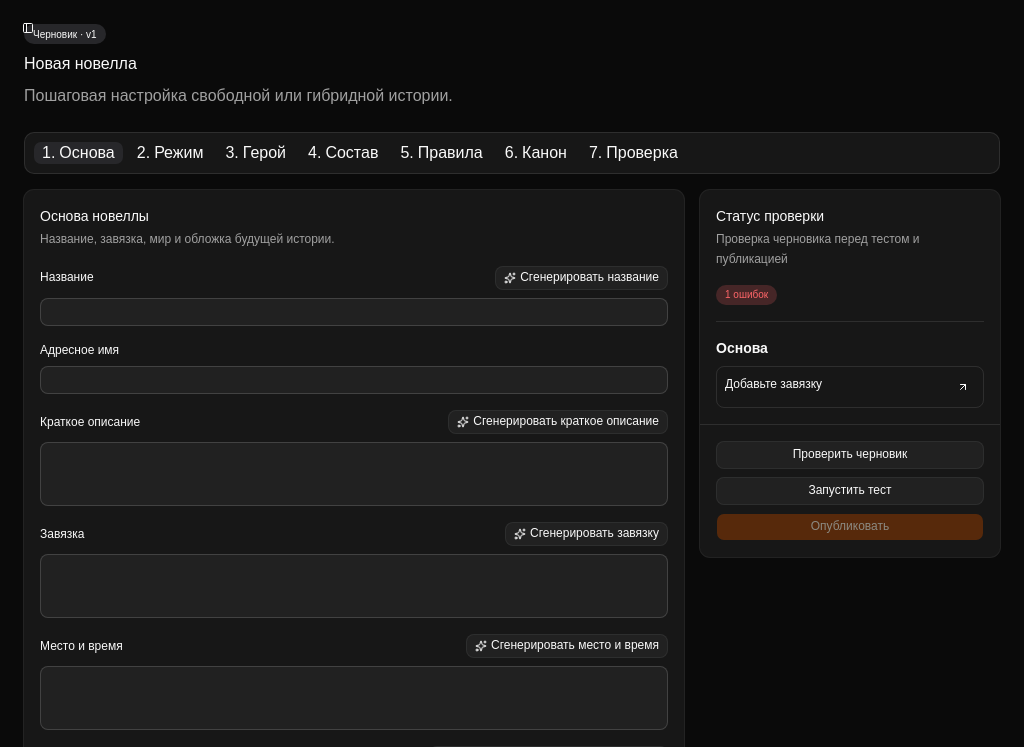
keeps validation status beside the form across editor sections
Expected: the text "Добавьте завязку" is shown, [725, 377, 822, 391]
Expected: the button "Проверить черновик" is shown, [716, 441, 984, 469]
Click the button "2. Режим" at point(170, 153), box [128, 141, 212, 165]
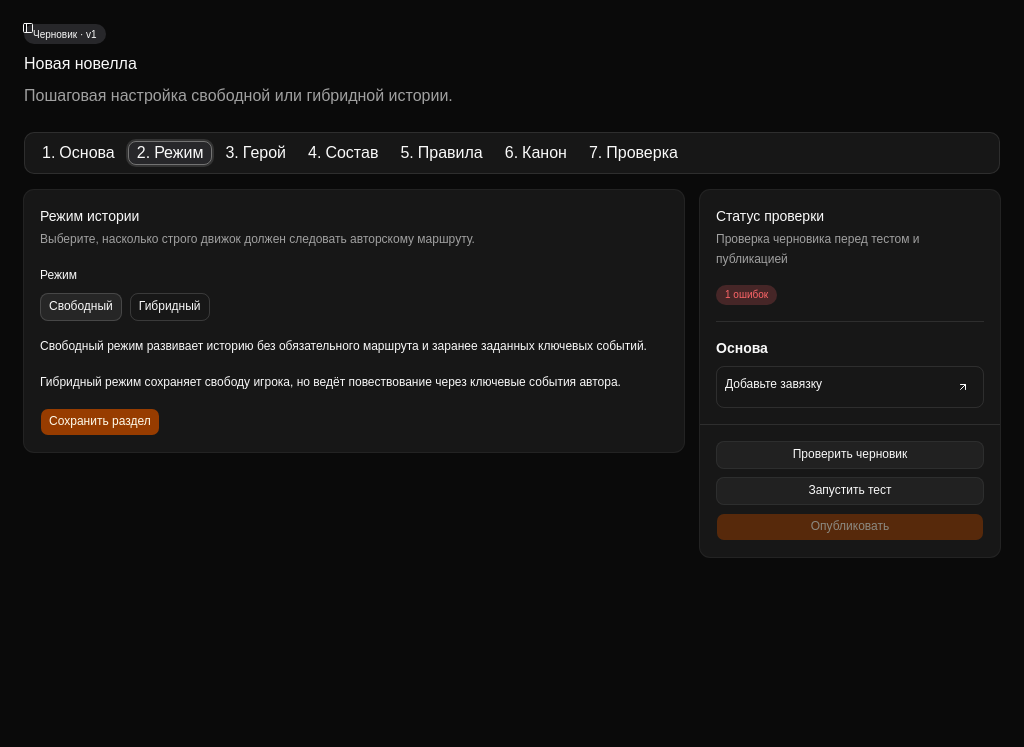
Expected: the text "Добавьте завязку" is shown, [725, 377, 822, 391]
Expected: the text "Режим истории" is shown, [40, 208, 139, 224]
